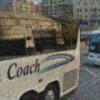buses: (0, 12, 80, 100)
